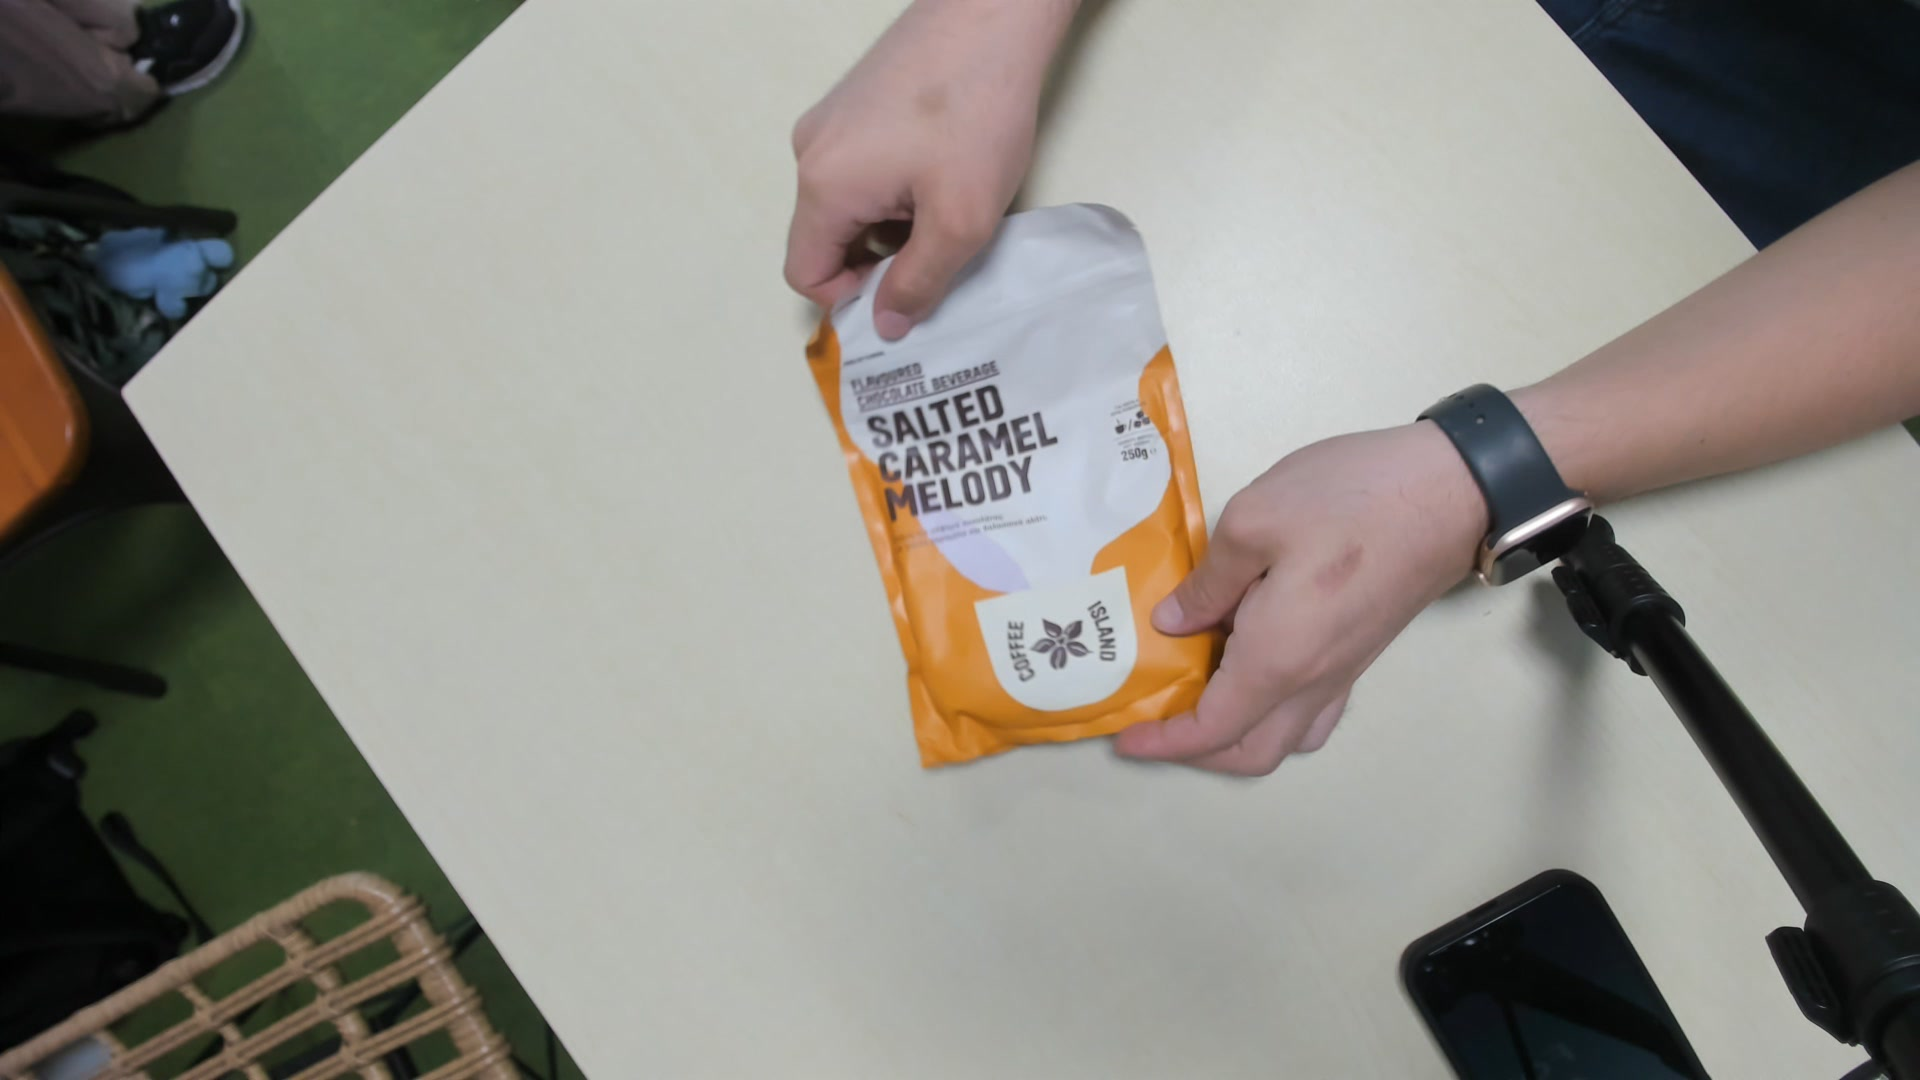Coffee_200-299g_NonHalal_NonHealthy: (819, 212, 1224, 767)
